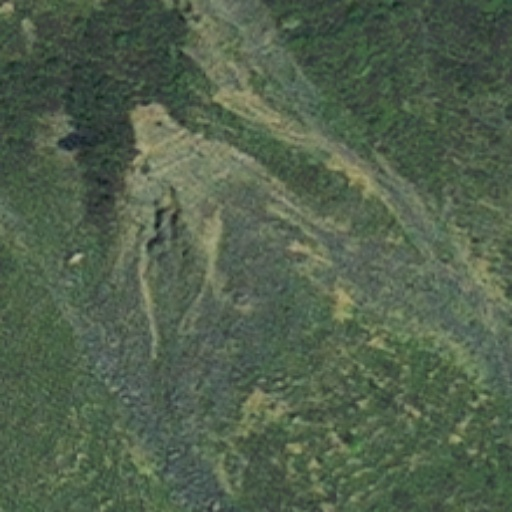landslide: (130, 91, 377, 313)
